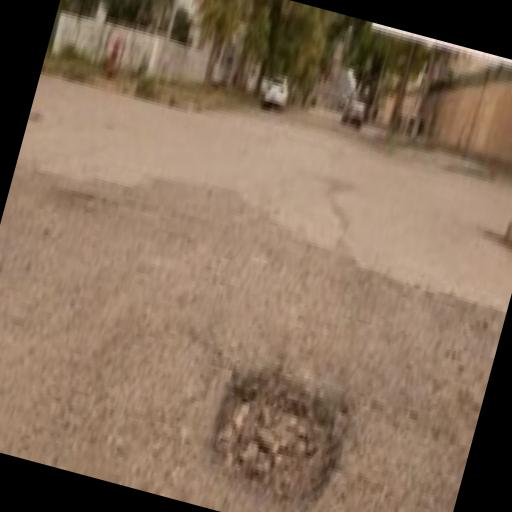pothole: (197, 352, 361, 512)
